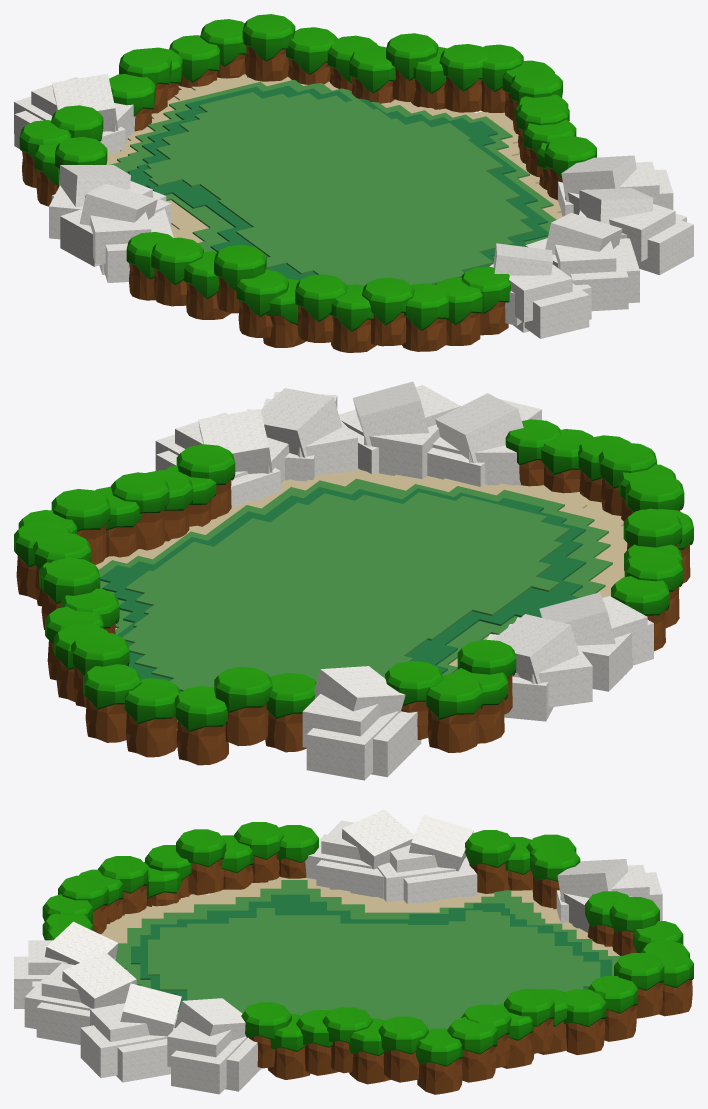
3 renders of one model, top to bottom at view 1: azimuth 30°, elevation 25°; view 2: azimuth 150°, elevation 25°; view 3: azimuth 270°, elevation 25°, orthographic. The views are drawn at different scales.
Visible parts, largest first — view 1: map2; view 2: map2; view 3: map2.
Part boxes in pixels (x1=…): map2: x1=14, y1=14, x2=693, y2=352; map2: x1=14, y1=381, x2=693, y2=780; map2: x1=14, y1=809, x2=693, y2=1094.
Bounding box in the file's own units: 42128 × 6386 × 52038.
